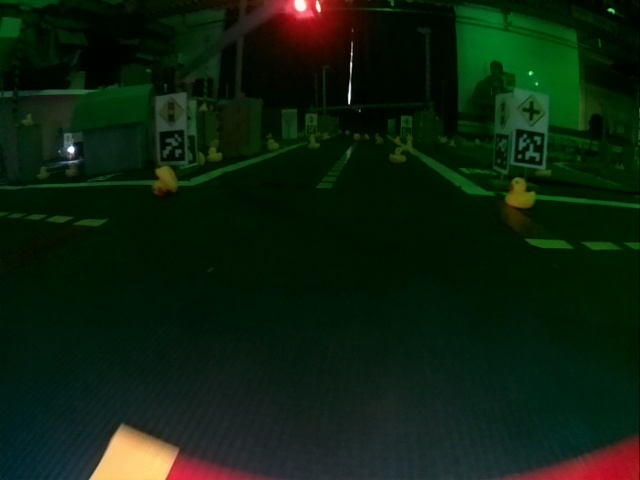Duckie: (506, 180, 535, 209), (151, 168, 178, 193), (391, 147, 405, 163), (308, 138, 320, 149), (208, 149, 218, 156)
Intersection sign: (517, 94, 546, 126)
QR code: (517, 129, 548, 166), (158, 131, 184, 164), (492, 136, 509, 172)
Signal sign: (156, 96, 184, 126), (495, 95, 512, 129)
Traffic light: (284, 2, 324, 20)
